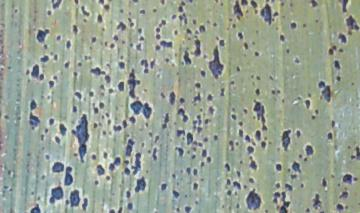tarspot: (72, 115, 90, 162), (208, 46, 224, 79), (252, 100, 268, 131), (126, 69, 140, 99), (246, 189, 261, 211), (345, 15, 360, 36), (260, 4, 273, 26), (130, 151, 141, 175), (280, 129, 291, 152), (279, 191, 290, 213), (63, 164, 74, 186), (191, 38, 203, 58), (28, 110, 40, 130), (232, 1, 243, 21), (320, 85, 332, 103), (129, 100, 143, 115), (124, 135, 134, 156), (37, 27, 50, 43), (70, 189, 81, 207), (177, 107, 189, 123), (135, 177, 147, 193), (311, 193, 322, 210), (50, 161, 64, 174), (180, 50, 191, 66), (52, 186, 64, 200), (142, 102, 152, 118), (248, 155, 257, 172), (160, 114, 170, 129), (91, 67, 107, 76), (115, 20, 127, 31), (337, 32, 347, 45), (292, 160, 301, 174), (160, 39, 174, 48), (168, 91, 177, 105), (31, 64, 39, 79), (339, 1, 349, 13), (305, 144, 315, 156), (343, 173, 353, 185), (254, 128, 262, 143), (222, 161, 232, 173), (58, 123, 66, 138), (152, 145, 159, 161), (81, 197, 88, 213), (236, 30, 246, 41), (232, 180, 242, 191), (171, 188, 181, 199), (30, 203, 41, 213), (50, 1, 62, 10), (81, 4, 90, 16), (272, 192, 281, 204), (174, 129, 186, 138), (38, 54, 51, 62), (333, 58, 341, 71), (52, 134, 62, 144), (95, 164, 105, 174), (284, 182, 293, 193), (186, 132, 193, 146), (117, 80, 125, 92), (354, 145, 360, 161), (228, 140, 236, 152), (339, 191, 349, 200), (247, 146, 256, 156), (193, 93, 202, 103), (71, 23, 79, 34), (96, 13, 104, 24), (275, 162, 283, 173), (278, 31, 286, 42), (218, 87, 226, 98), (320, 177, 327, 189), (102, 3, 111, 12), (198, 68, 207, 77), (113, 124, 122, 133), (73, 91, 82, 100), (113, 157, 122, 166), (158, 182, 167, 191), (317, 80, 327, 88), (206, 93, 214, 103), (140, 58, 148, 68), (29, 100, 37, 110), (123, 166, 131, 176), (293, 57, 301, 66), (289, 21, 297, 30), (244, 134, 252, 143), (250, 1, 258, 10), (208, 106, 216, 115), (138, 8, 147, 16), (107, 163, 116, 171), (310, 1, 320, 8), (336, 202, 343, 212), (191, 181, 198, 191), (149, 59, 156, 69), (92, 106, 99, 116), (129, 116, 136, 126), (261, 139, 267, 150), (185, 166, 191, 177), (122, 118, 128, 129), (135, 43, 143, 51), (118, 61, 126, 69), (47, 196, 55, 204), (329, 119, 336, 128), (295, 129, 302, 138), (349, 79, 356, 88), (248, 177, 257, 184), (253, 8, 260, 17), (178, 96, 185, 105), (234, 201, 241, 210), (177, 147, 184, 156), (126, 201, 133, 210), (65, 39, 71, 49), (305, 99, 311, 109), (255, 87, 261, 97), (201, 148, 207, 158), (89, 88, 95, 98), (154, 133, 160, 143), (38, 73, 45, 81), (194, 82, 202, 89), (290, 173, 298, 180), (274, 181, 281, 189), (237, 129, 244, 137), (255, 74, 262, 82), (254, 50, 261, 58), (219, 39, 226, 47), (235, 65, 242, 73), (225, 178, 232, 186), (225, 189, 232, 197), (203, 118, 210, 126), (154, 44, 161, 52), (138, 34, 145, 42), (90, 153, 97, 161), (44, 154, 52, 161), (92, 178, 100, 185), (103, 174, 111, 181), (125, 190, 132, 198), (192, 120, 197, 131), (327, 132, 333, 141), (231, 113, 237, 122), (243, 42, 249, 51), (197, 125, 203, 134), (72, 105, 78, 114), (39, 133, 45, 142), (1, 113, 10, 119), (197, 114, 202, 124), (184, 17, 189, 27), (273, 11, 280, 18), (280, 97, 287, 104), (227, 17, 234, 24), (159, 92, 166, 99), (184, 206, 191, 213), (199, 26, 206, 33), (113, 34, 120, 41), (101, 129, 108, 136), (76, 61, 83, 68), (5, 64, 12, 71), (329, 48, 335, 56), (336, 75, 342, 83), (329, 172, 335, 180), (242, 107, 248, 115), (212, 133, 218, 141), (192, 145, 198, 153), (267, 76, 275, 82), (178, 6, 184, 14), (161, 18, 167, 26), (155, 33, 161, 41), (105, 74, 111, 82), (102, 151, 108, 159), (109, 207, 117, 213), (45, 93, 51, 101), (307, 90, 312, 99), (241, 1, 250, 6), (200, 159, 205, 168), (192, 167, 197, 176), (179, 14, 184, 23), (100, 101, 105, 110), (46, 9, 52, 16), (56, 35, 63, 41), (53, 53, 59, 60), (91, 36, 97, 43), (304, 207, 311, 213), (212, 21, 218, 28), (206, 157, 212, 164), (202, 137, 209, 143), (192, 139, 198, 146), (185, 27, 191, 34), (192, 19, 198, 26), (171, 13, 177, 20), (173, 29, 179, 36), (159, 1, 166, 7), (155, 25, 161, 32), (164, 57, 170, 64), (137, 27, 143, 34), (120, 38, 126, 45), (99, 91, 106, 97), (104, 111, 110, 118), (48, 118, 54, 125), (122, 158, 128, 165), (6, 169, 12, 176), (2, 183, 8, 190), (142, 87, 149, 93), (199, 176, 205, 183), (73, 1, 81, 6), (236, 170, 241, 178), (191, 153, 196, 161), (153, 7, 158, 15), (128, 41, 133, 49), (72, 70, 77, 78), (49, 81, 54, 89), (29, 188, 34, 196), (13, 8, 19, 14), (43, 43, 49, 49), (286, 167, 292, 173), (288, 2, 294, 8), (238, 121, 244, 127), (230, 107, 236, 113), (180, 1, 186, 7), (126, 17, 132, 23), (143, 69, 149, 75), (109, 43, 115, 49), (109, 88, 115, 94), (84, 56, 90, 62), (52, 74, 58, 80), (194, 200, 200, 206), (72, 152, 78, 158), (64, 199, 70, 205), (100, 26, 106, 32), (311, 114, 316, 121), (314, 108, 319, 115), (302, 22, 307, 29), (271, 88, 276, 95), (230, 79, 235, 86), (234, 142, 241, 147), (103, 40, 108, 47), (106, 119, 111, 126), (93, 121, 98, 128), (144, 121, 149, 128), (64, 62, 69, 69), (148, 131, 153, 138), (146, 148, 151, 155), (44, 126, 49, 133), (117, 206, 122, 213), (41, 174, 46, 181), (242, 183, 247, 190), (339, 47, 343, 55), (332, 44, 337, 50), (346, 145, 352, 150), (353, 176, 358, 182), (280, 2, 285, 8), (314, 18, 319, 24), (344, 204, 349, 210), (232, 23, 237, 29), (238, 159, 243, 165), (199, 107, 204, 113), (175, 207, 180, 213), (194, 30, 199, 36), (119, 8, 124, 14), (100, 84, 105, 90), (36, 195, 41, 201), (215, 35, 220, 41), (26, 69, 30, 76), (98, 1, 105, 5), (286, 47, 290, 54), (337, 181, 341, 188), (8, 188, 15, 192), (141, 140, 145, 147), (351, 155, 356, 160), (298, 153, 303, 158), (250, 73, 255, 78), (198, 142, 203, 147), (172, 174, 177, 179), (130, 23, 135, 28), (26, 153, 31, 158), (277, 89, 281, 95), (220, 2, 224, 8), (120, 54, 124, 60), (132, 1, 139, 4), (83, 18, 87, 23), (300, 183, 304, 188), (264, 209, 268, 213), (189, 1, 193, 5), (304, 157, 307, 162), (263, 1, 269, 3), (270, 1, 276, 3), (216, 1, 219, 3)
